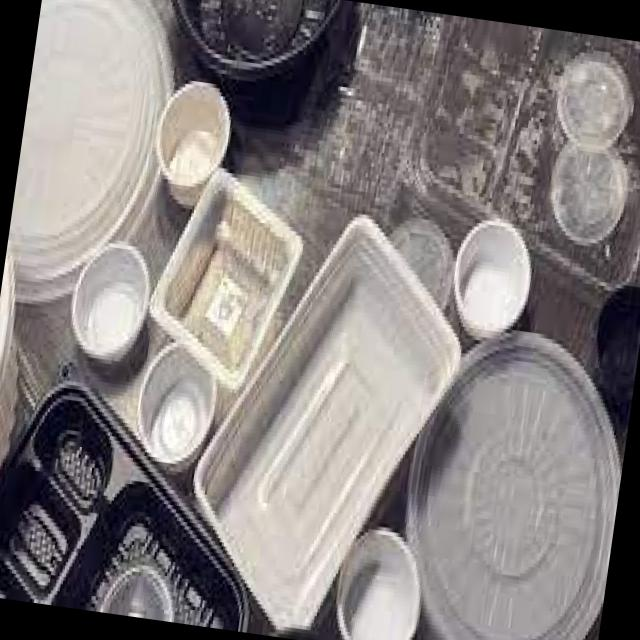plastic-bowl: (192, 213, 462, 635), (401, 17, 640, 307), (0, 379, 251, 633), (11, 0, 179, 303), (145, 164, 305, 395), (175, 0, 350, 82), (70, 236, 156, 364), (138, 343, 220, 471), (335, 528, 423, 640), (455, 214, 531, 341)
plastic-wrapper: (407, 326, 621, 640), (391, 216, 458, 322)
